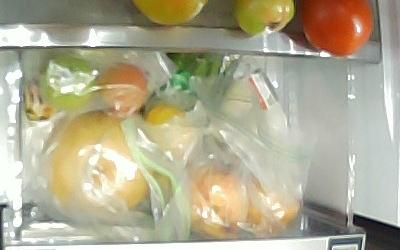peach_vinyl: (189, 166, 249, 239), (249, 190, 300, 230)
pear_vinyl: (49, 107, 153, 222)
tangerine_vinyl: (146, 104, 192, 153)
tomato_vinyl: (41, 55, 95, 110), (99, 64, 148, 120)
